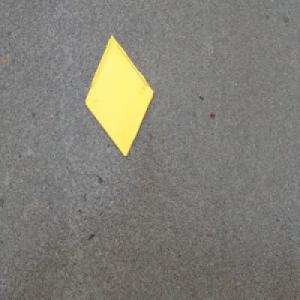PlasticPart: (83, 32, 155, 158)
